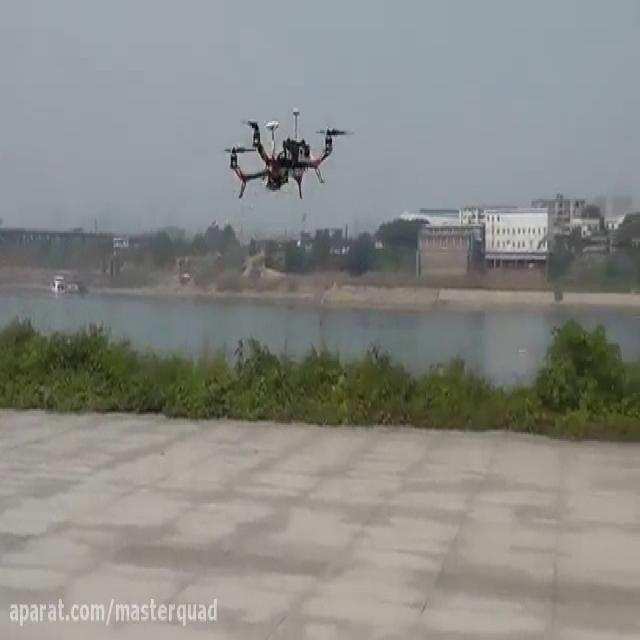drone: (217, 105, 357, 204)
